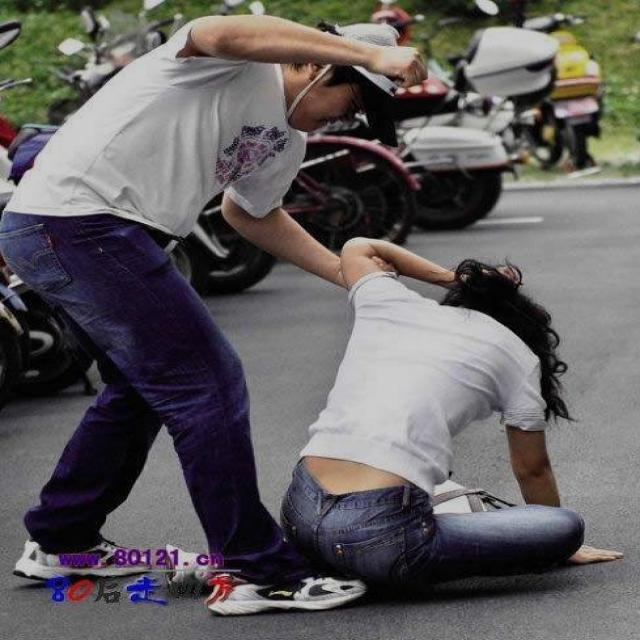fight: (1, 0, 559, 639)
